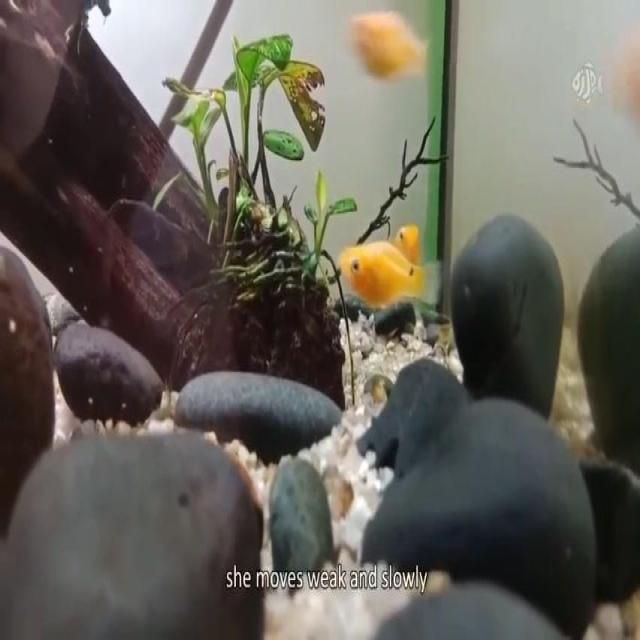PlatyFish: (331, 232, 449, 312)
